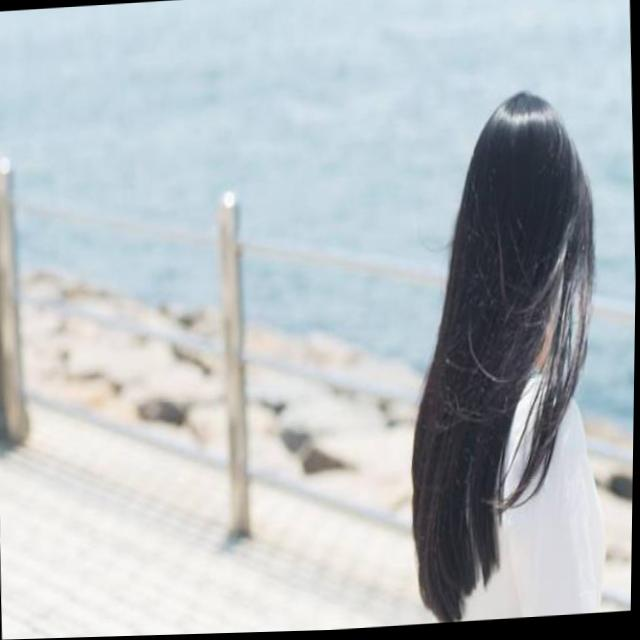no helmet: (414, 95, 607, 452)
